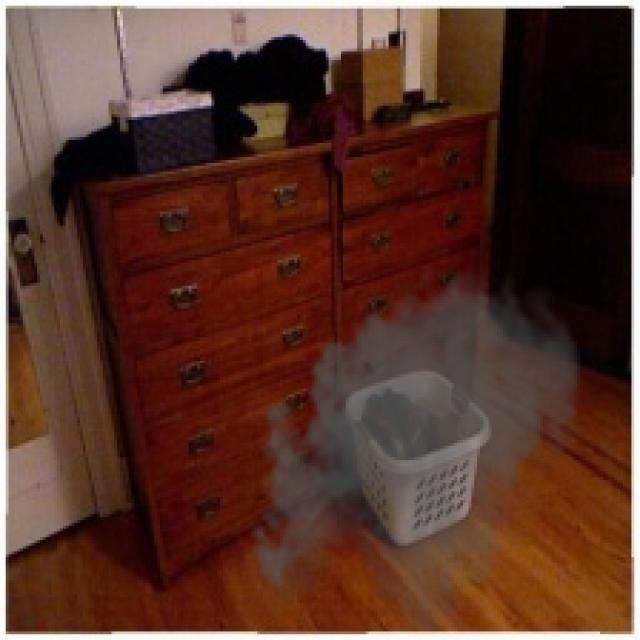smoke: (240, 254, 589, 629)
